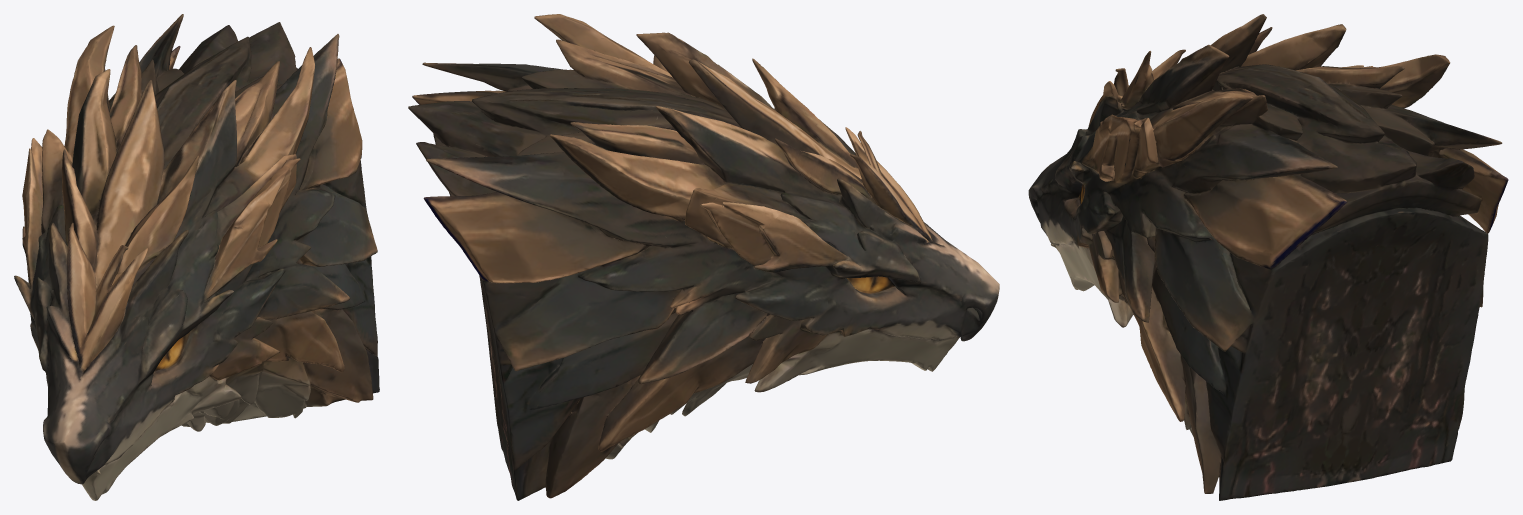
Rendered from head_pixal3d.glb.
3 renders of one model, left to right at view 1: azimuth 30°, elevation 25°; view 2: azimuth 150°, elevation 25°; view 3: azimuth 270°, elevation 25°, orthographic. The views are drawn at different scales.
Size of the model in its own units: 0.8844 by 0.7524 by 0.8078.
Materials: 1 (1 with a texture image).
